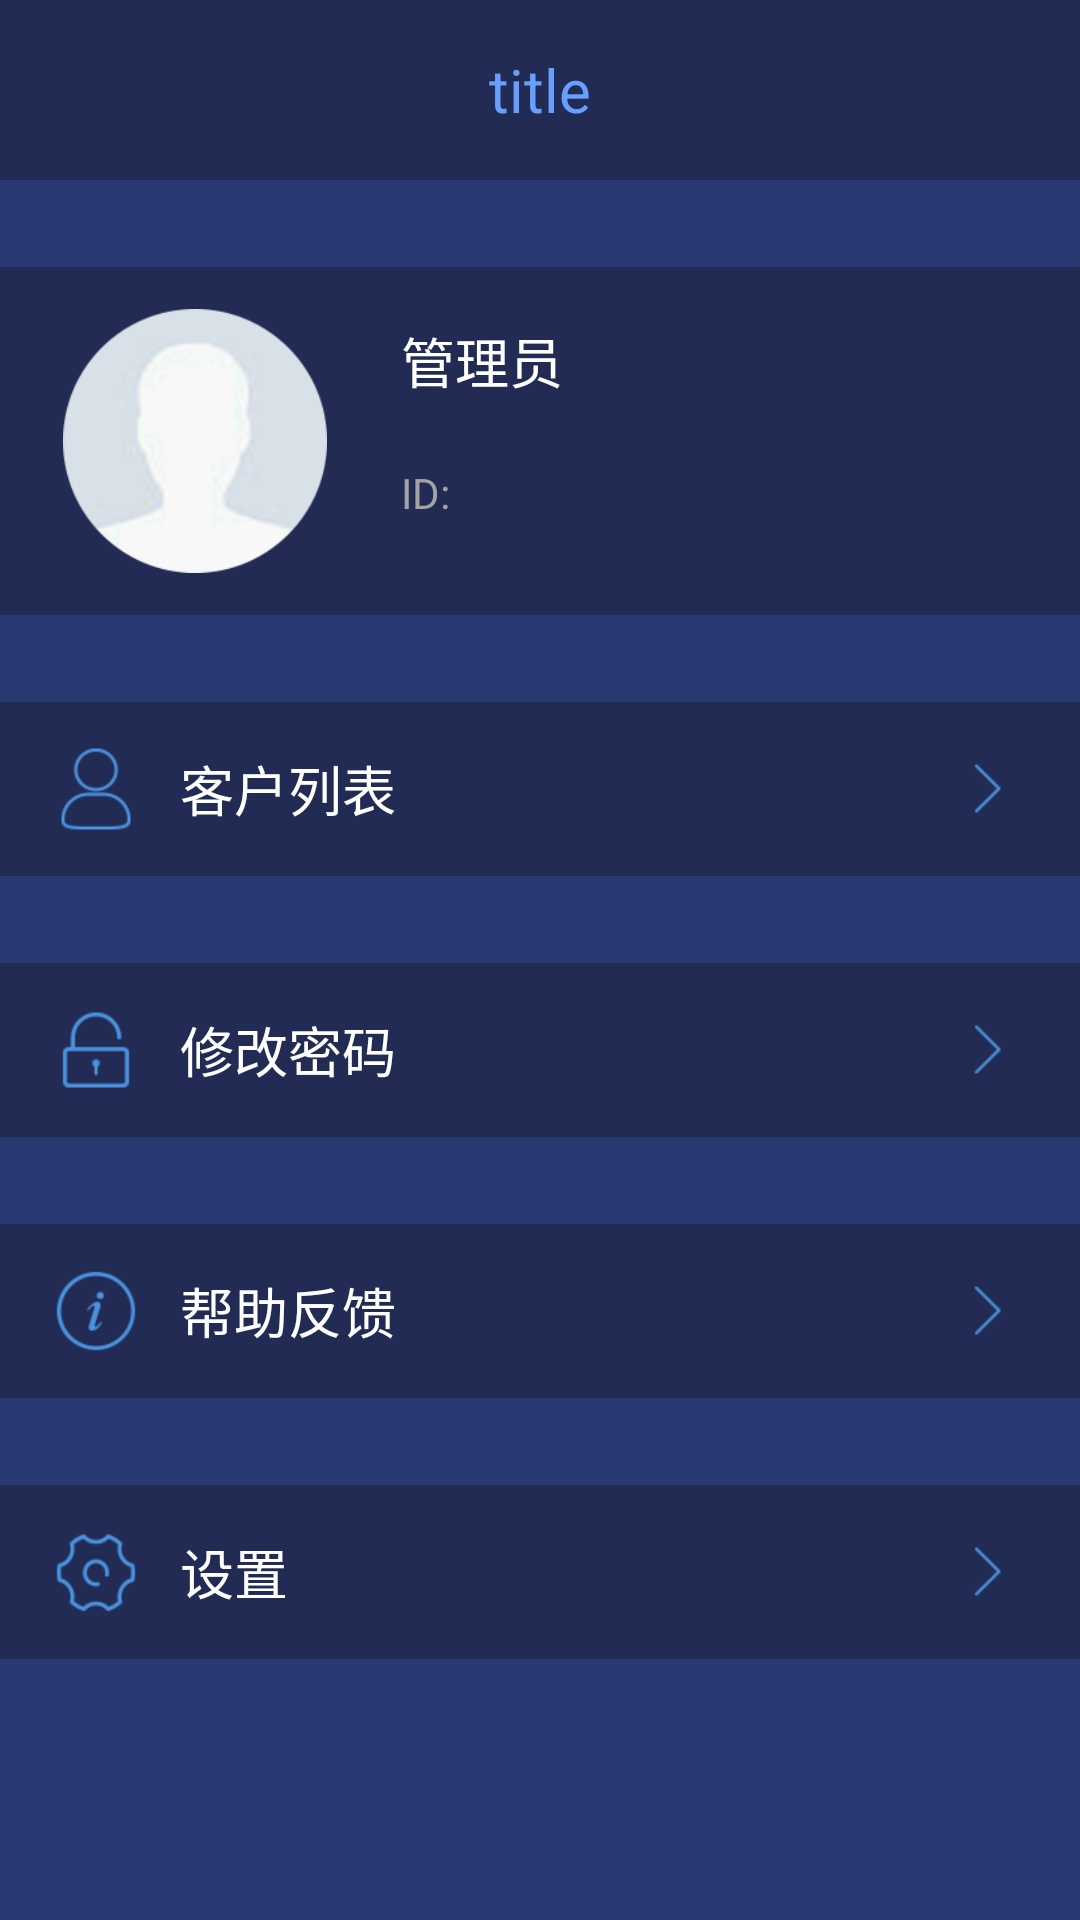

Icon bounding boxes for this 1080x1920 phone screenshot, format (x1=x1, y1=y1, x2=x2, y2=y2):
head: (x1=63, y1=309, x2=327, y2=573)
